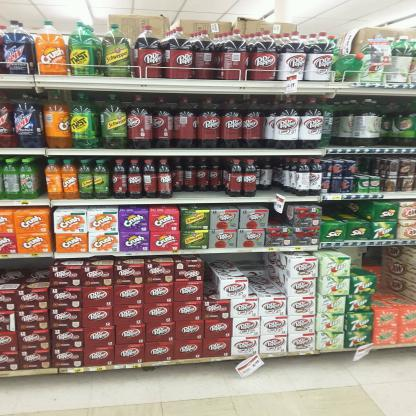Void: (374, 249, 408, 303), (176, 162, 224, 194), (247, 253, 282, 295), (325, 203, 369, 222), (2, 262, 43, 280), (258, 162, 278, 191), (208, 254, 242, 269), (348, 252, 366, 273), (271, 213, 287, 226)
